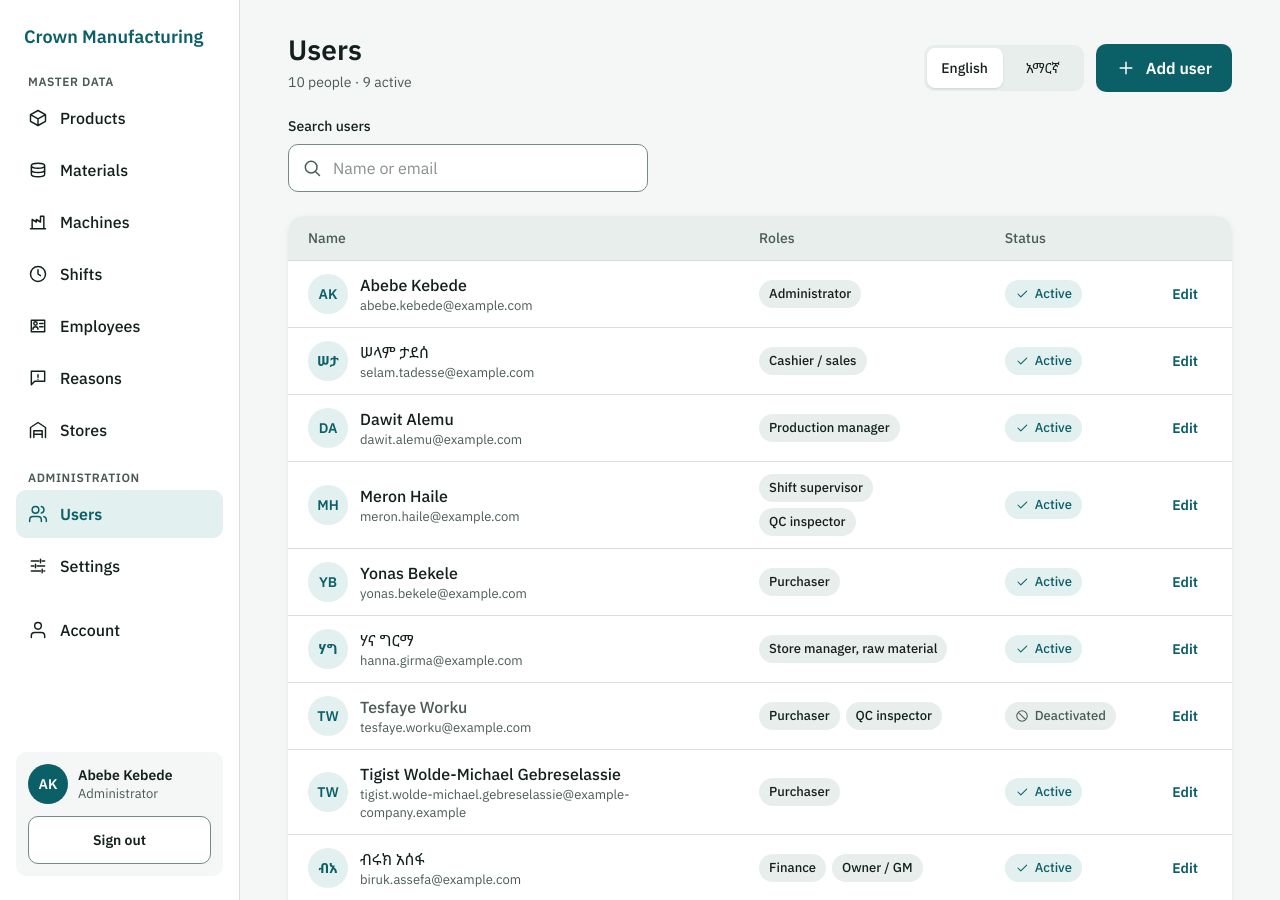
Test case: editing a user › the last administrator cannot be deactivated: the panel shows the message
The width and height of the screenshot is (1280, 900).
Click the button with aria-label "Edit Abebe Kebede" at (1185, 294), box [1158, 272, 1212, 316]
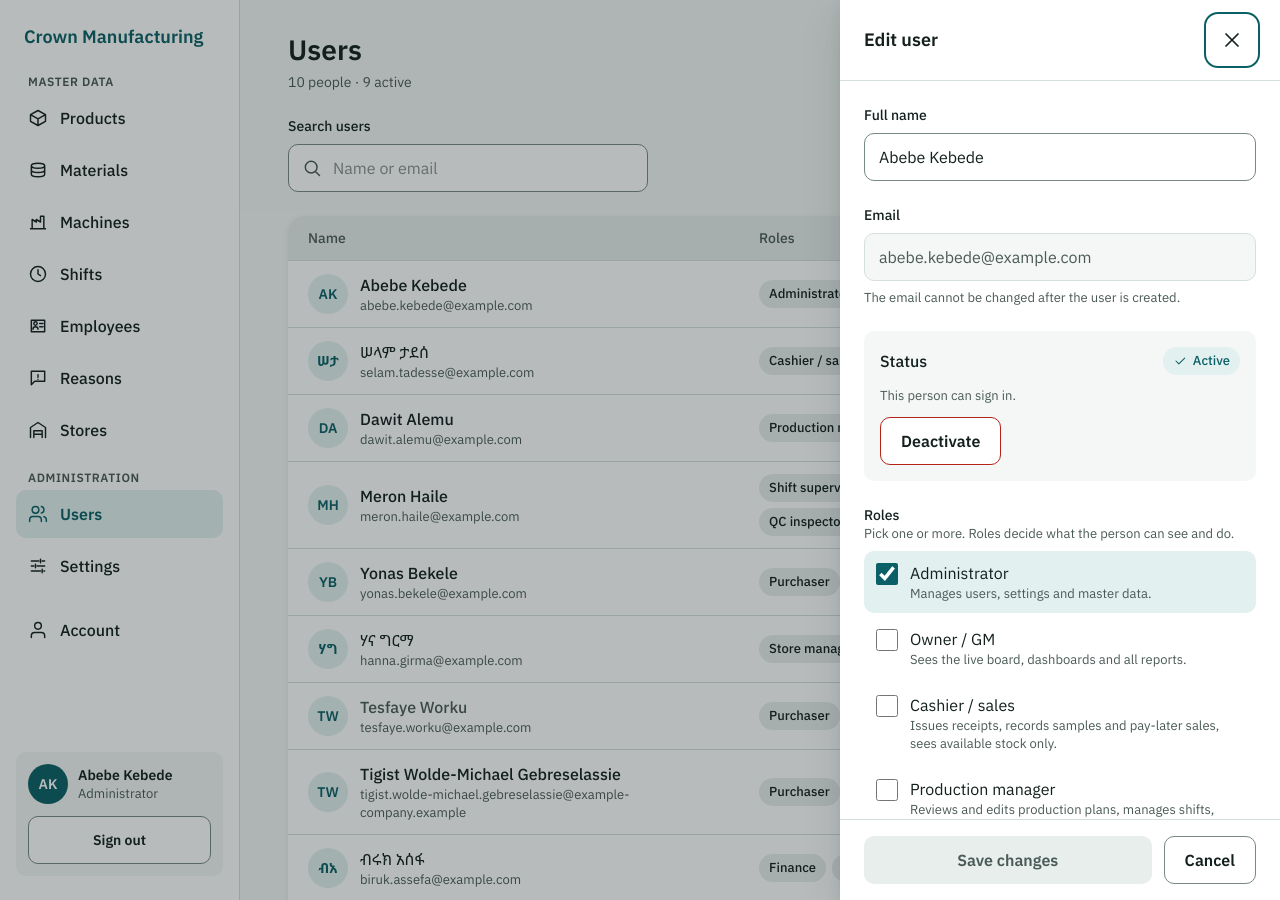
Click the button "Deactivate" at (941, 441), box [880, 417, 1002, 465]
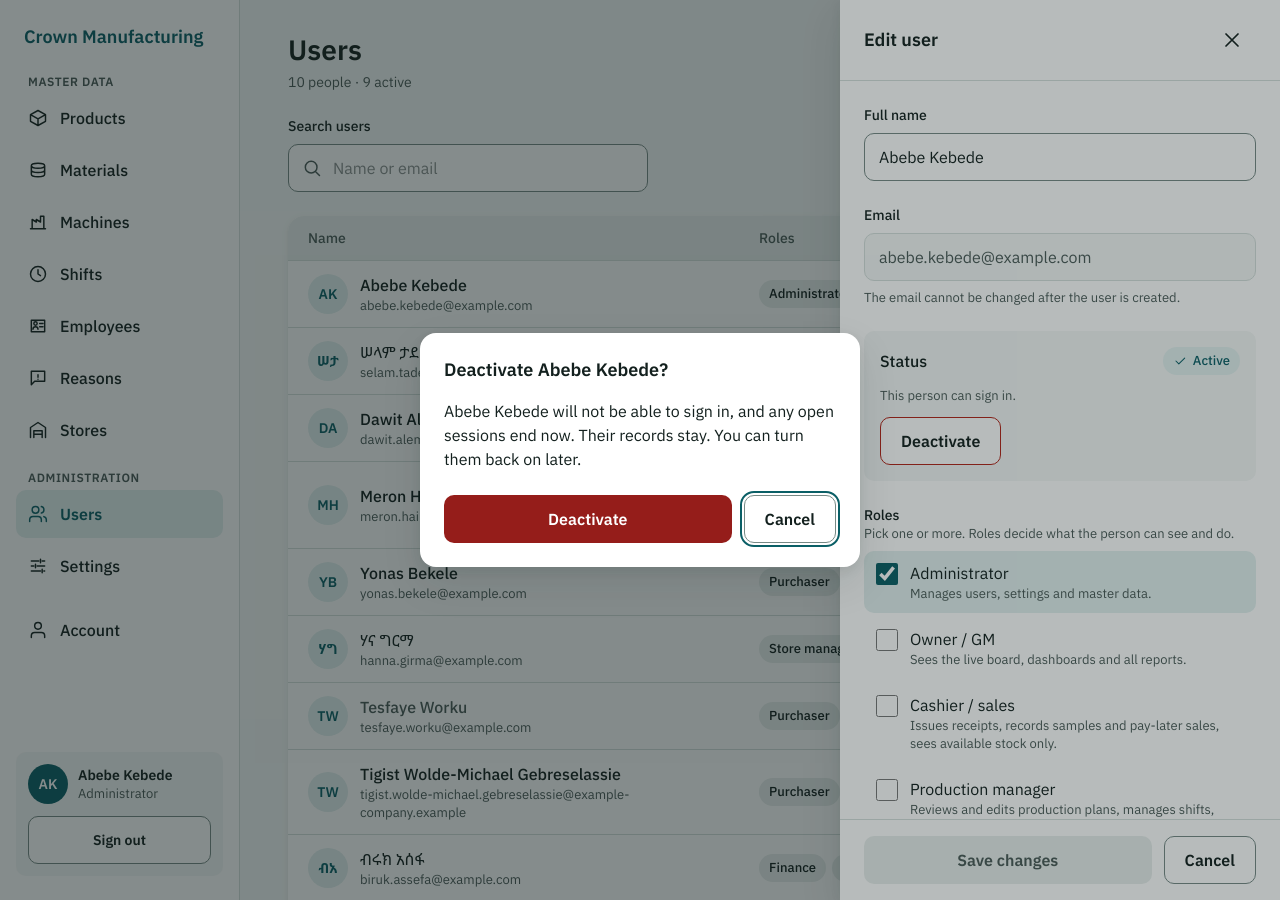
Click the button "Deactivate" at (588, 519), box [444, 495, 732, 543]
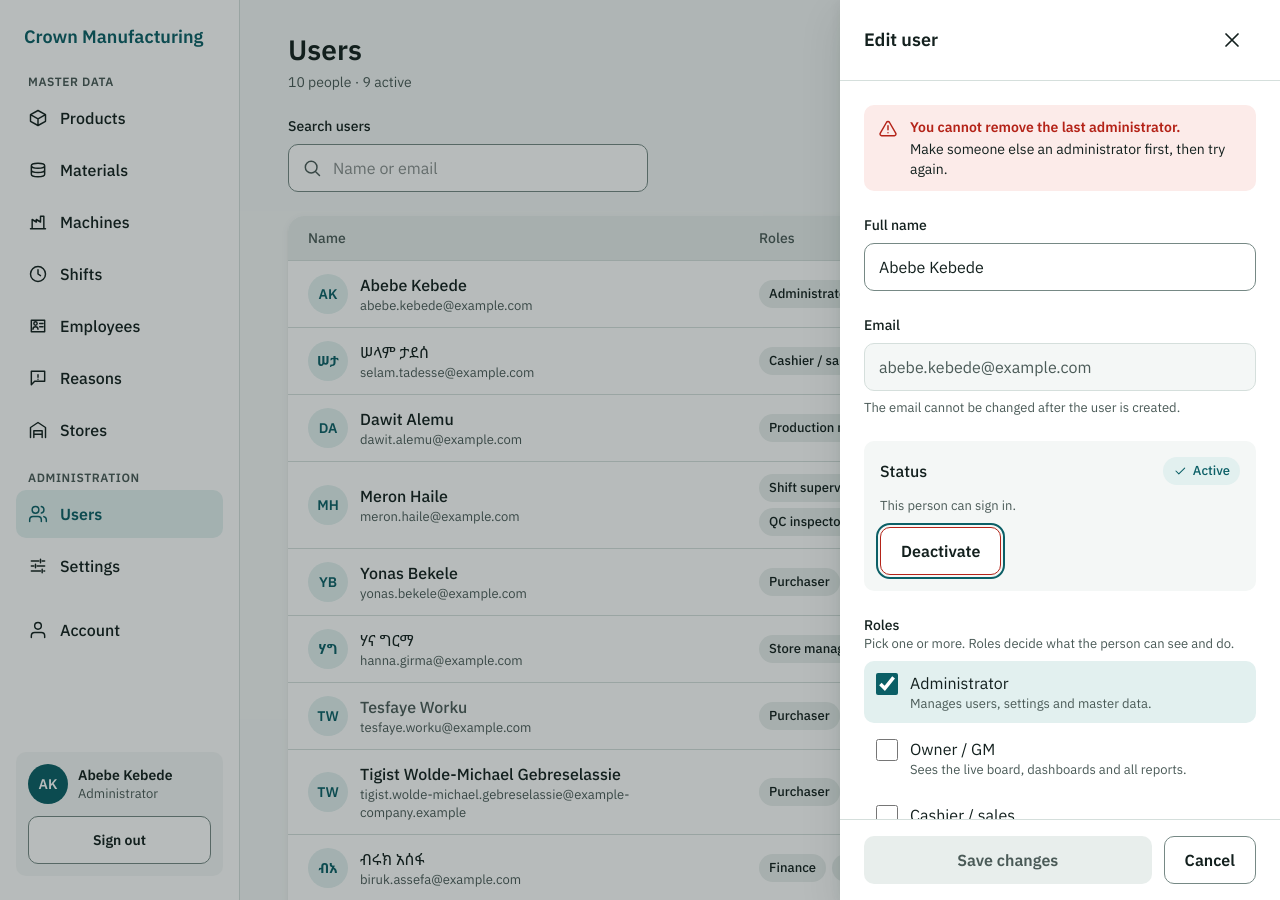
Now the button "Deactivate" is shown, box [880, 527, 1002, 575]
Now the message shows "You cannot remove the last administrator.", box [910, 118, 1180, 136]
Now the message shows "Make someone else an administrator first, then try again.", box [910, 140, 1225, 178]
